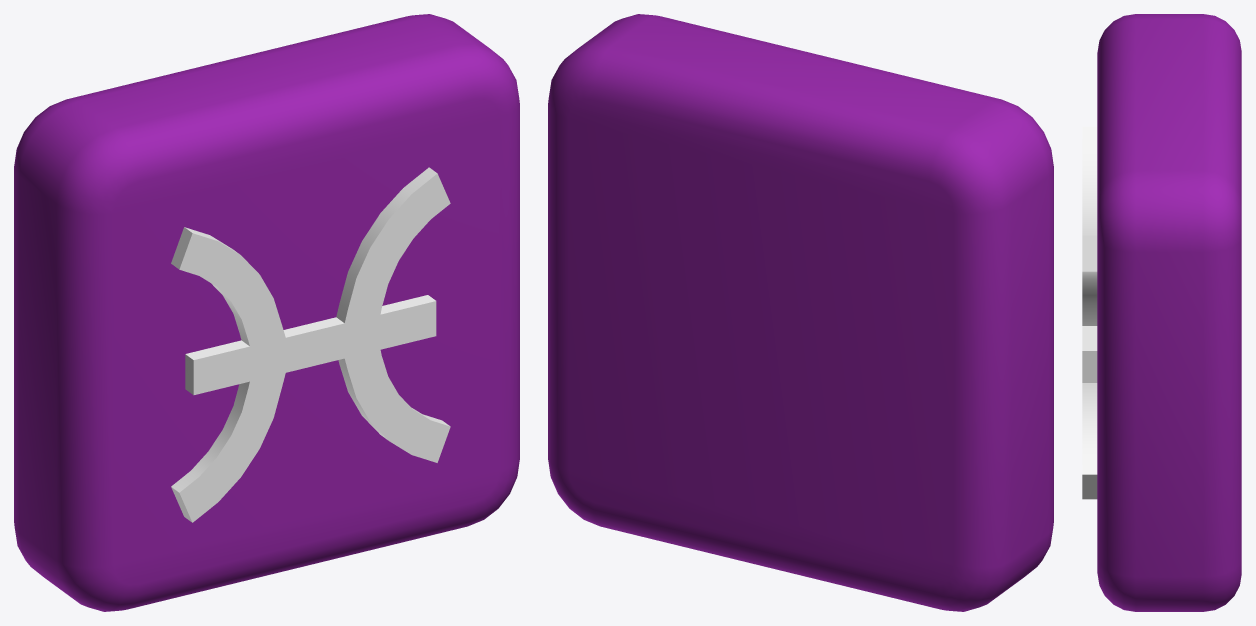
Rendered from pisces.glb.
The picture shows the model from 3 angles, left to right: view 1: azimuth 30°, elevation 25°; view 2: azimuth 150°, elevation 25°; view 3: azimuth 270°, elevation 25°; orthographic projection. The views are drawn at different scales.
Parts seen in each view (by area): view 1: Cube.6410; view 2: Cube.6410; view 3: Cube.6410.
Part boxes in pixels (<box>): Cube.6410: <box>14,14,519,611</box>; Cube.6410: <box>548,14,1053,611</box>; Cube.6410: <box>1082,14,1241,611</box>.
Bounding box in the file's own units: 2.2 × 2.2 × 0.73.
Materials: 1 (1 with a texture image).
